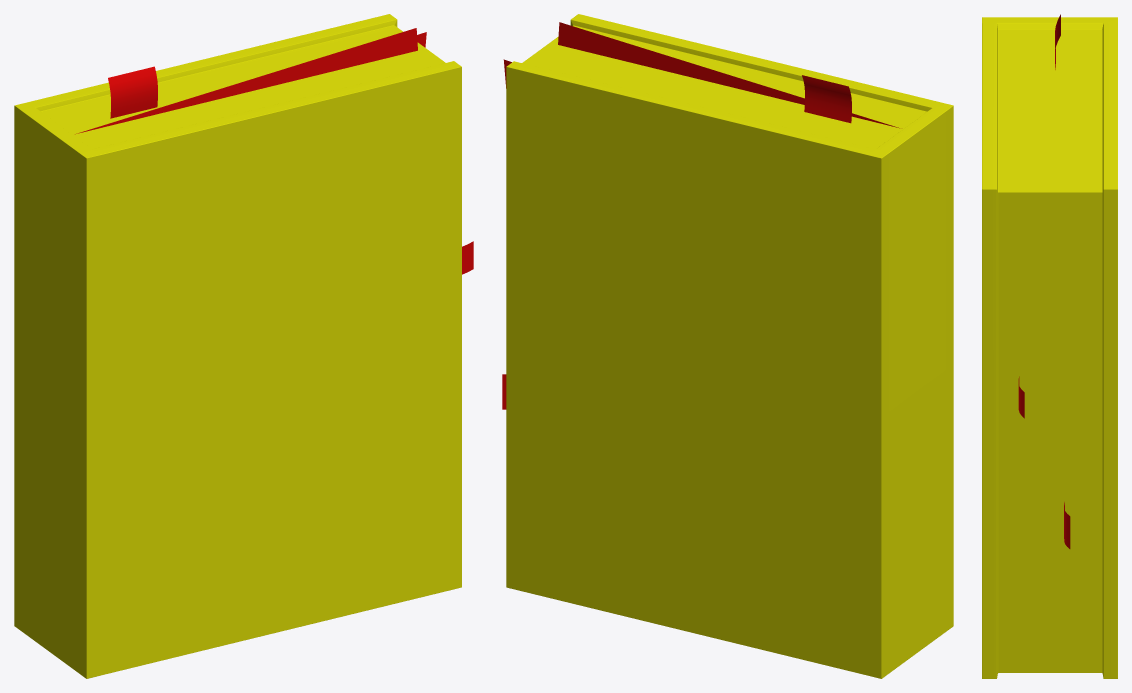
The model's file is Livre_low.fbx.
3 renders of one model, left to right at view 1: azimuth 30°, elevation 25°; view 2: azimuth 150°, elevation 25°; view 3: azimuth 270°, elevation 25°, orthographic. The views are drawn at different scales.
Visible parts, largest first — view 1: livre; view 2: livre; view 3: livre.
Part boxes in pixels (bbox=[...]): livre: bbox=[14, 14, 473, 678]; livre: bbox=[502, 14, 953, 678]; livre: bbox=[982, 14, 1117, 678].
Size of what is drawn, in the model's own units: 20.82 by 26.95 by 6.36.
